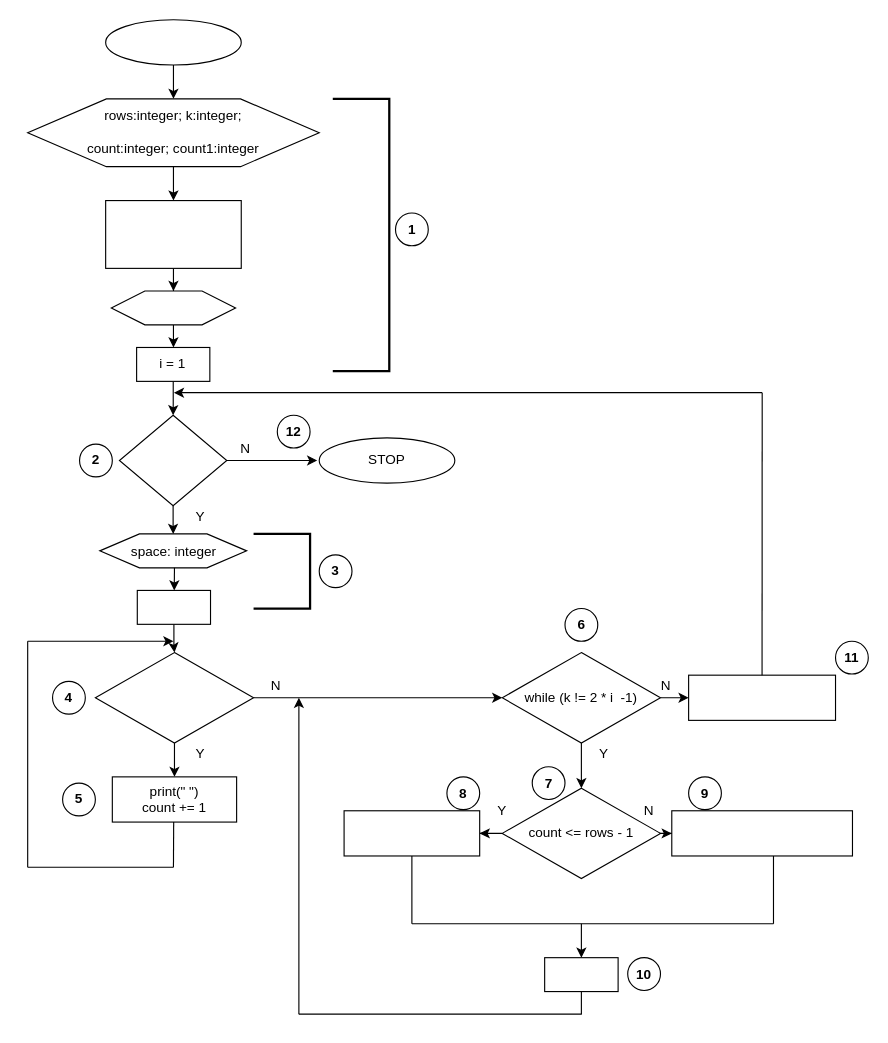
This 888x1043 diagram has some shape labels left out. The shapes that lost their labels are listed below. From the top down, each one's box as (x1, y1, x2, y2) in pixels, then its label:
(105, 19, 241, 65): START
(105, 199, 241, 268): rows = 5; k = 0; count = 0; count1 = 0
(110, 290, 236, 325): i: integer
(118, 414, 227, 506): for (i <= rows)
(136, 589, 211, 624): space = 1
(94, 651, 254, 743): for (space <= rows)
(687, 674, 836, 720): count1 = count = k = 0 print(" ")
(343, 810, 480, 856): print ((i + k) + “ “ ) count += 1
(671, 810, 852, 856): count1 += 1 print ( (i + k - 2 * count1) + “ “ )
(544, 957, 618, 992): k += 1
